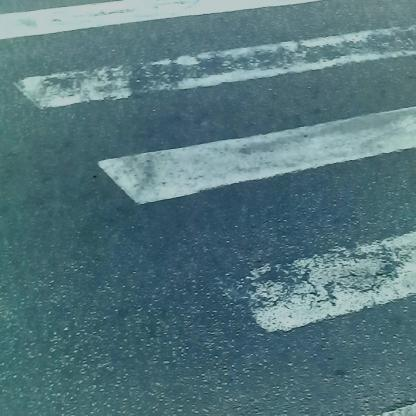crosswalk: (4, 13, 416, 317)
